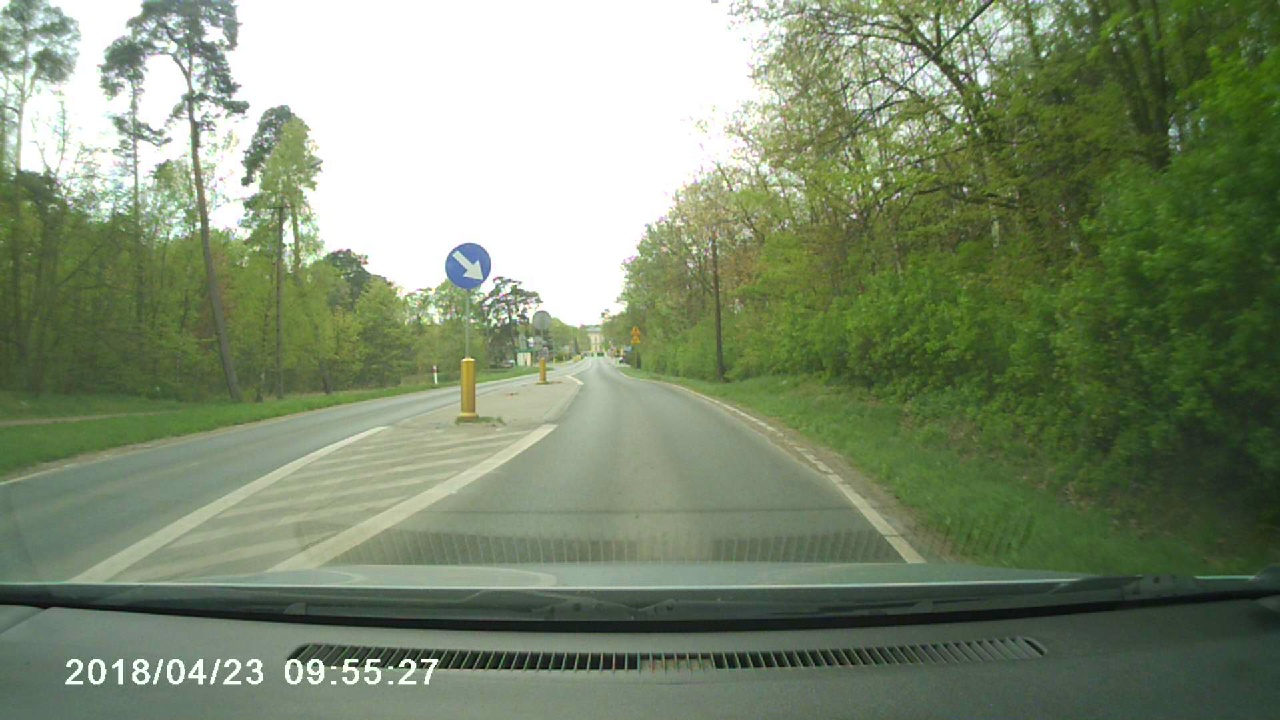C9: (445, 243, 492, 288)
